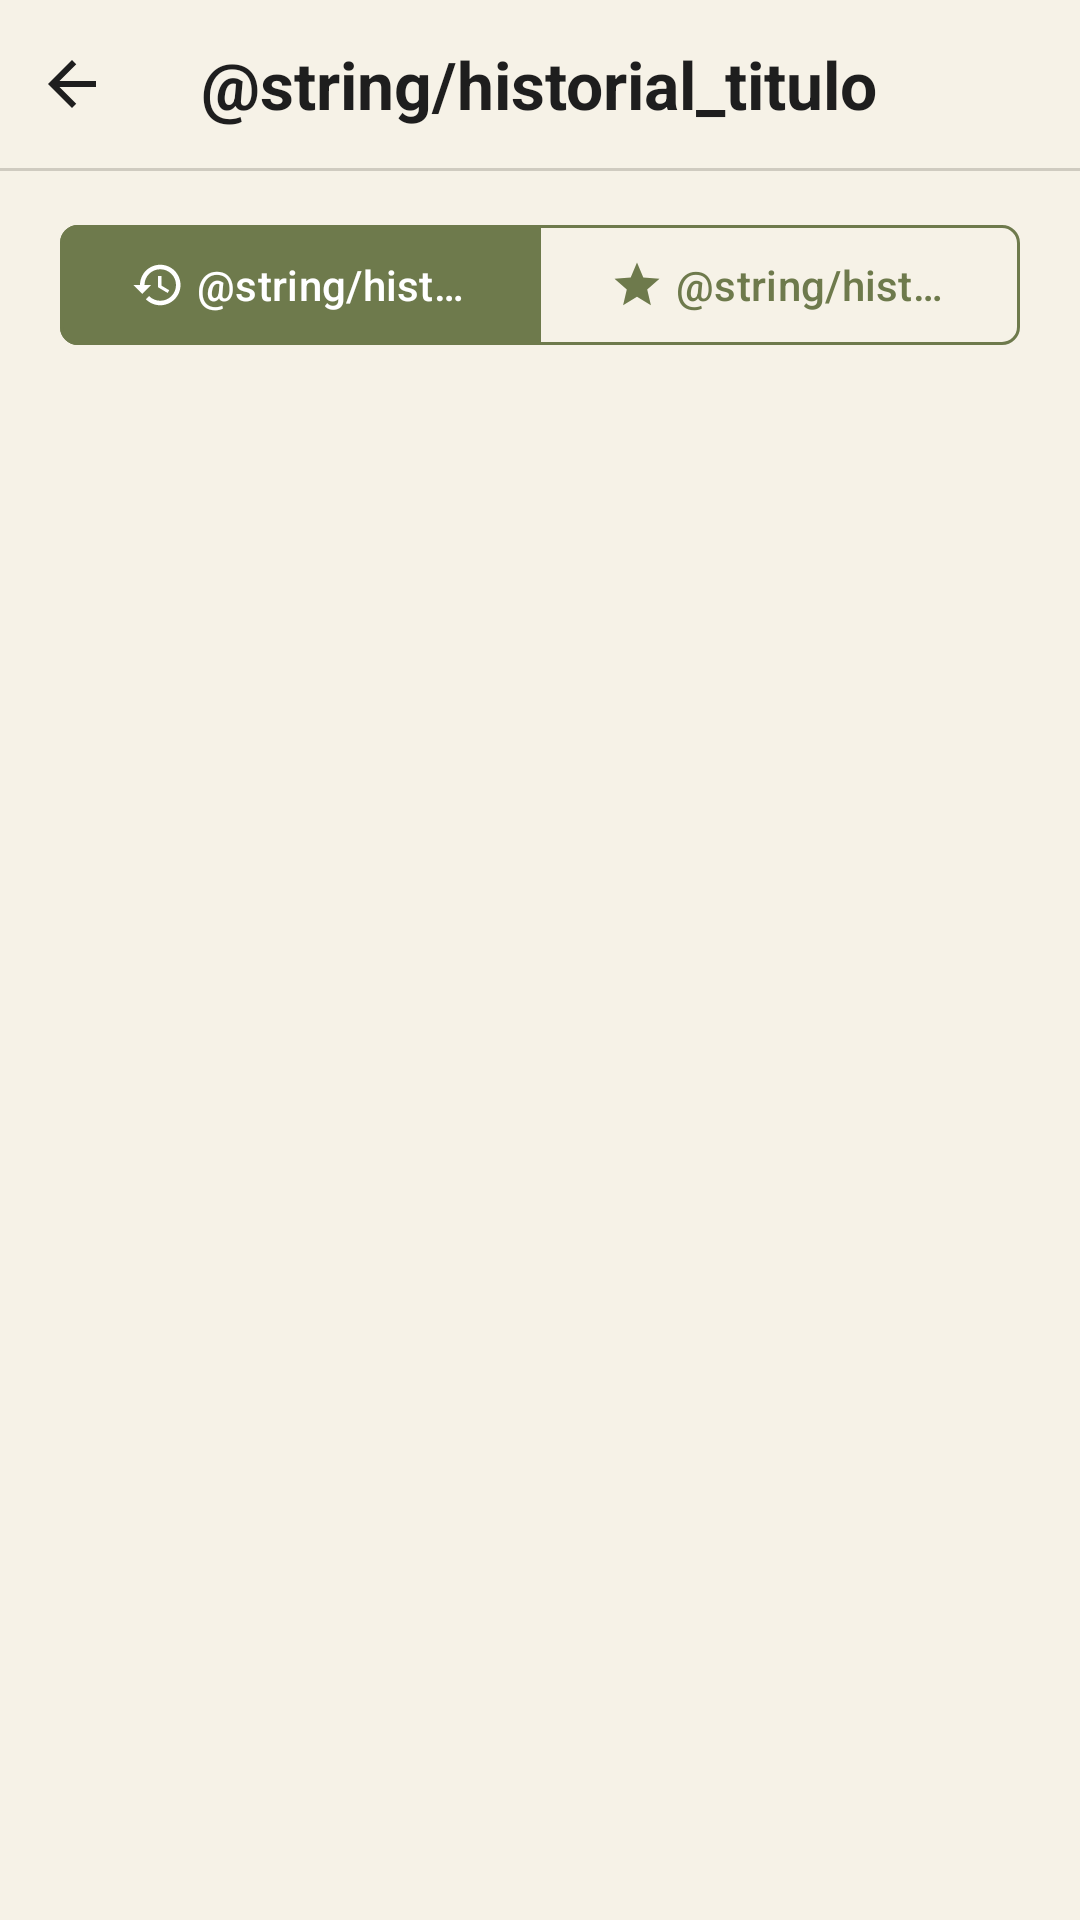

Point at icon controls on the screen. Image size 1080px×1920px, points as (x=x, y=y).
Volver: (x=72, y=84)
